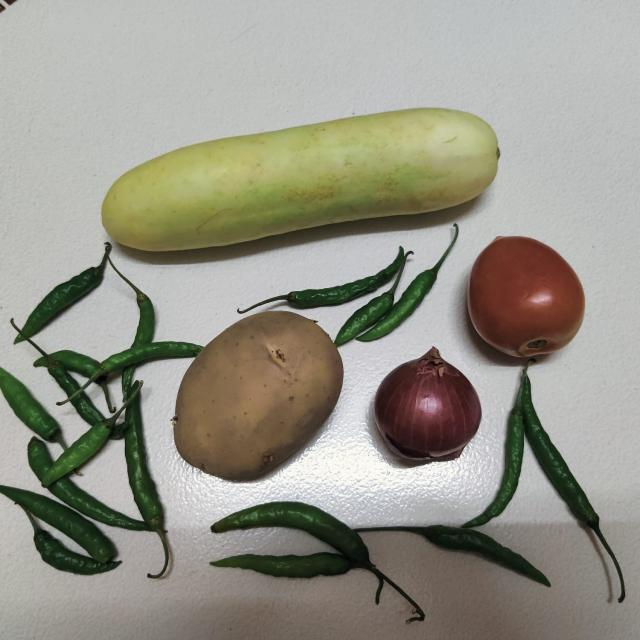Organik: (84, 100, 510, 248), (481, 362, 640, 616), (1, 348, 170, 580), (177, 309, 349, 482), (212, 491, 376, 614), (356, 506, 549, 600), (462, 229, 590, 360), (0, 248, 120, 346)
